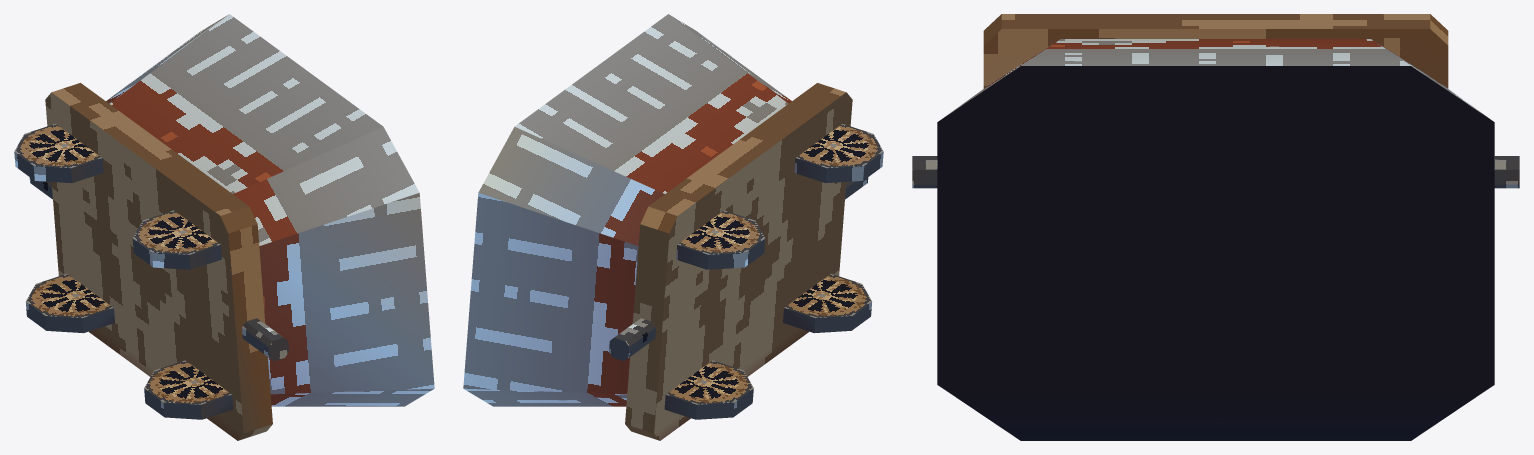
The model's file is wmine.cart__tipped.glb.
3 views of the same model, side by side, from view 1: azimuth 30°, elevation 25°; view 2: azimuth 150°, elevation 25°; view 3: azimuth 270°, elevation 25° (orthographic). The views are drawn at different scales.
Visible parts, largest first — view 1: kit_tub, kit_frame, kit_wheels, kit_couplers; view 2: kit_tub, kit_frame, kit_wheels, kit_couplers; view 3: kit_tub, kit_frame, kit_couplers.
Boxes of the visible parts, bbox=[...] form: kit_tub: bbox=[106, 14, 434, 406]; kit_frame: bbox=[45, 83, 272, 440]; kit_wheels: bbox=[14, 124, 233, 419]; kit_couplers: bbox=[29, 177, 288, 361]; kit_tub: bbox=[463, 14, 791, 406]; kit_frame: bbox=[625, 83, 852, 440]; kit_wheels: bbox=[664, 124, 883, 419]; kit_couplers: bbox=[609, 177, 868, 361]; kit_tub: bbox=[937, 39, 1494, 440]; kit_frame: bbox=[983, 14, 1448, 88]; kit_couplers: bbox=[912, 156, 1519, 188].
Bounding box in the file's own units: 1 × 1.12 × 1.7.
Materials: 5 (5 with a texture image).
